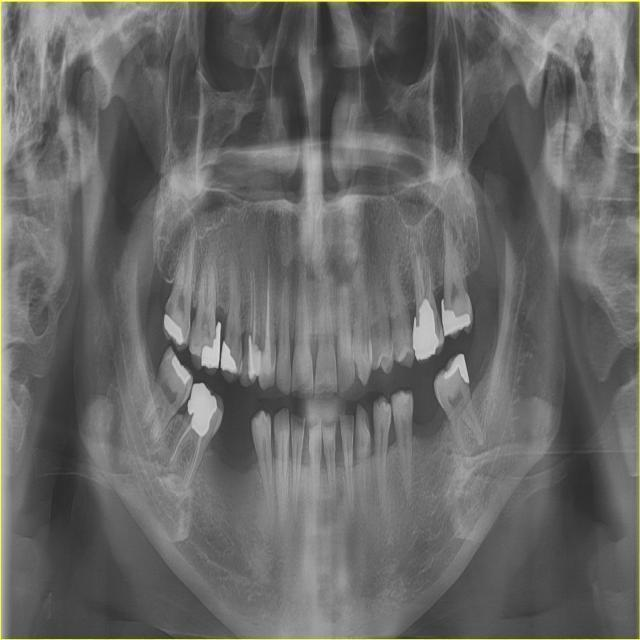Caries: (165, 296, 174, 319), (437, 314, 443, 335)
Filling: (413, 296, 439, 361), (188, 383, 217, 437), (441, 298, 471, 337), (202, 322, 220, 367), (443, 353, 470, 383), (260, 337, 274, 387), (172, 356, 192, 385), (219, 341, 237, 373), (165, 315, 184, 345), (246, 332, 259, 375)
Missing teeth: (208, 417, 258, 472), (411, 388, 449, 446)
Root Canal Treatment: (169, 421, 192, 463), (185, 436, 202, 490), (414, 249, 425, 299), (264, 256, 270, 346), (252, 269, 256, 348), (428, 261, 431, 304), (250, 269, 252, 330), (419, 256, 421, 304)
